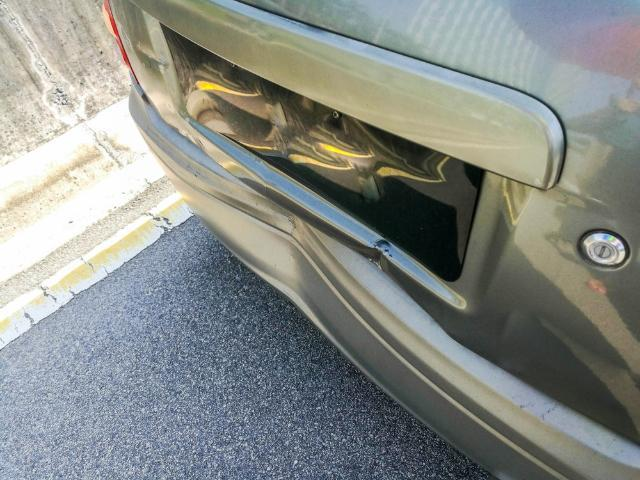dent: (220, 195, 309, 290)
